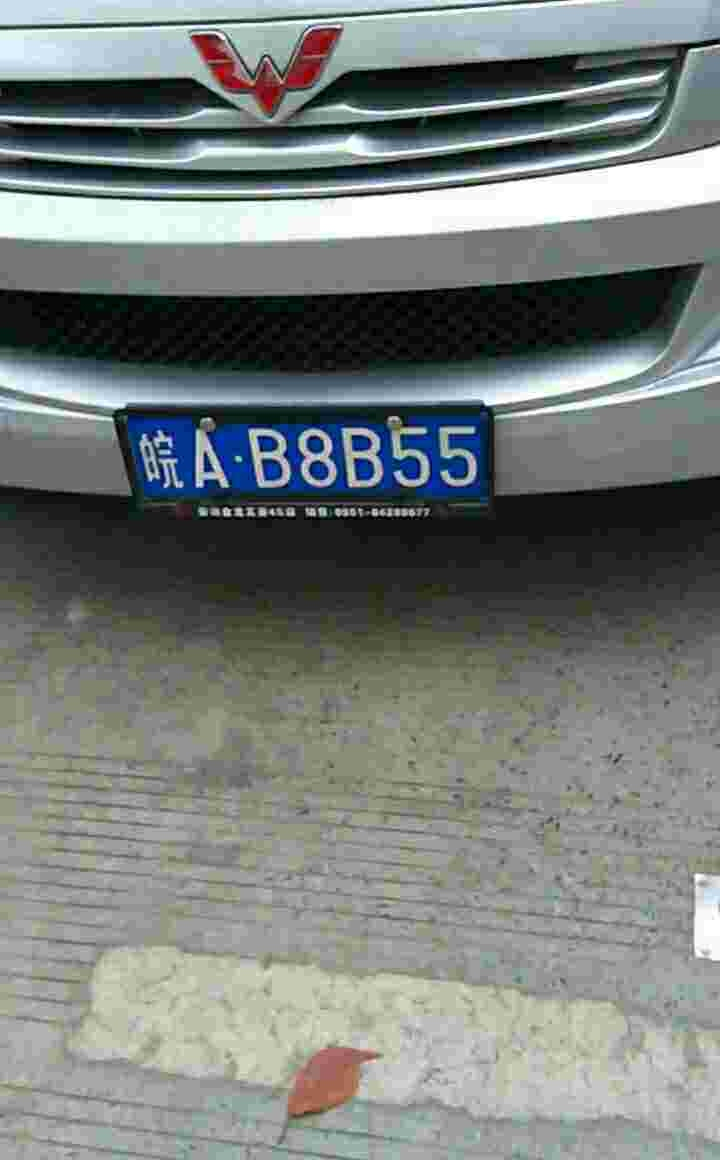license_plate: (105, 421, 493, 500)
